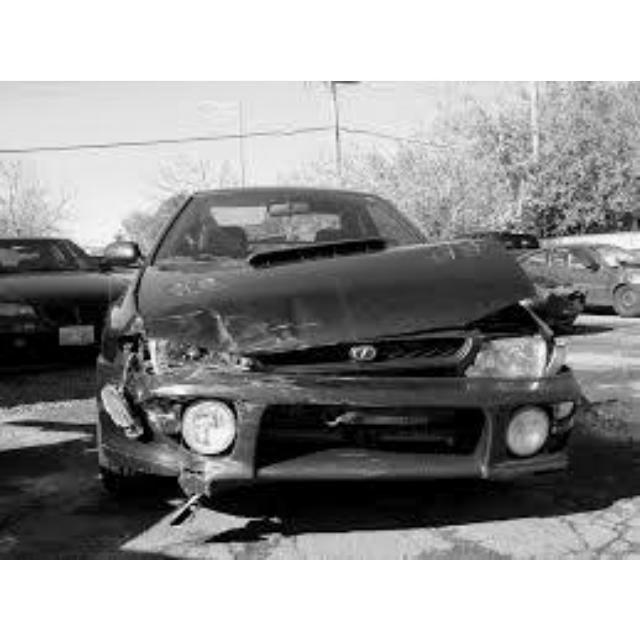Headlight-damage: (117, 365, 292, 478)
bonnet-dent: (154, 256, 462, 347)
